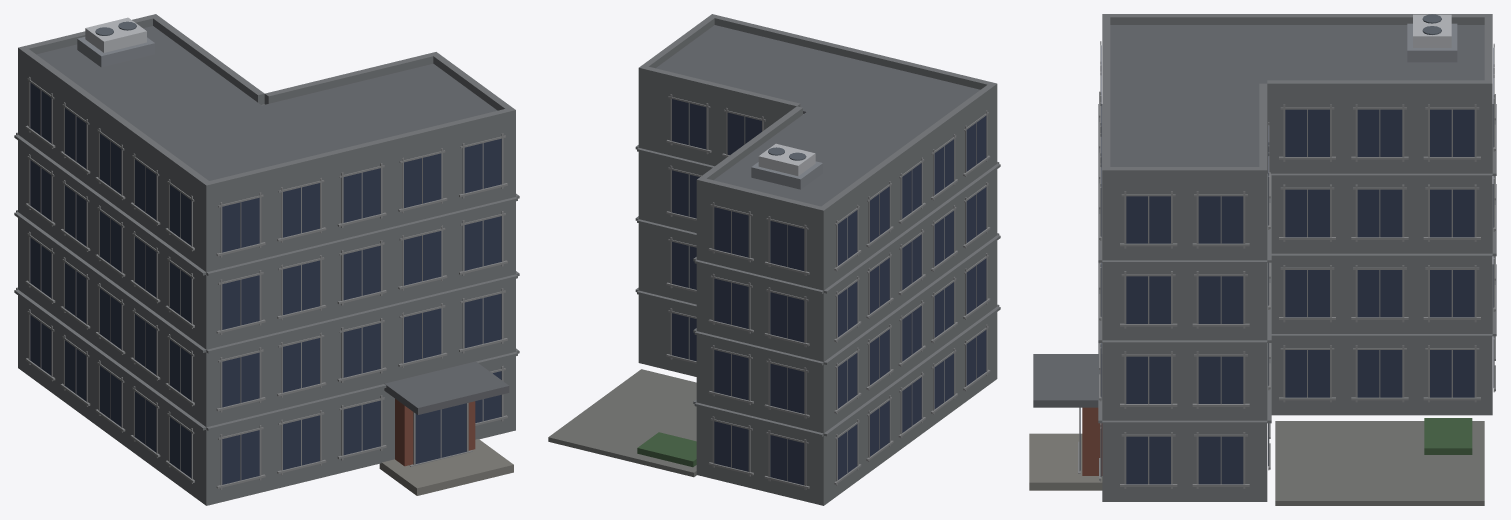
File: civic_corner_05x03_lvl1.glb
3 views of the same model, side by side, from view 1: azimuth 30°, elevation 25°; view 2: azimuth 150°, elevation 25°; view 3: azimuth 270°, elevation 25° (orthographic). The views are drawn at different scales.
Visible parts, largest first — view 1: civic_corner_05x03; view 2: civic_corner_05x03; view 3: civic_corner_05x03.
Part boxes in pixels (x1=…): civic_corner_05x03: x1=14, y1=14, x2=519, y2=505; civic_corner_05x03: x1=548, y1=14, x2=1000, y2=505; civic_corner_05x03: x1=1029, y1=14, x2=1496, y2=505.
Size of the model in its own units: 0.8095 by 0.8581 by 1.
